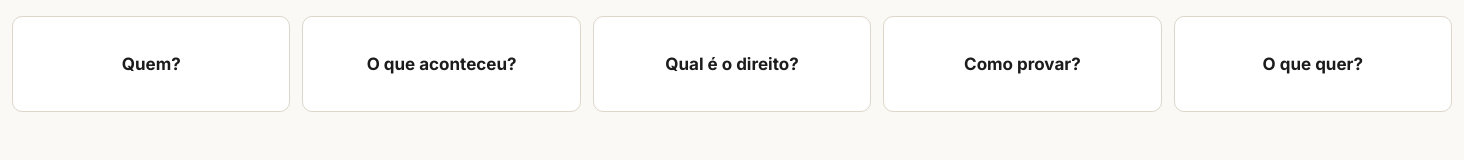
Test case: CartoesCincoPerguntas › tocar de novo desvira o cartão
Click the button "Quem?". click: (151, 64)
box: [12,16,290,112]
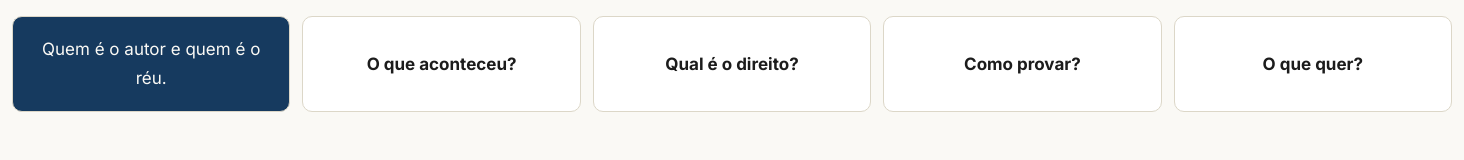
Click the button "Quem é o autor e quem é o réu.". click: (151, 49)
box: [12,16,290,112]
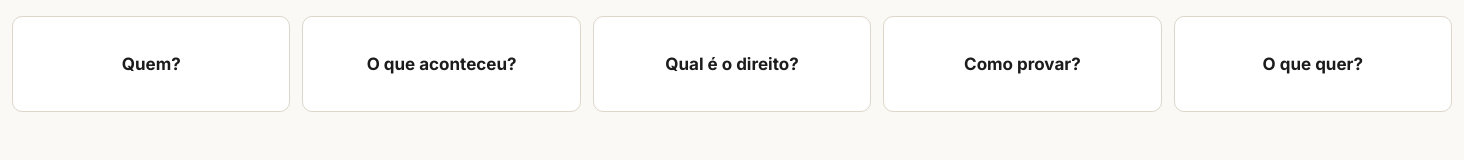
Now the button "Quem?" is shown, box [12,16,290,112]
